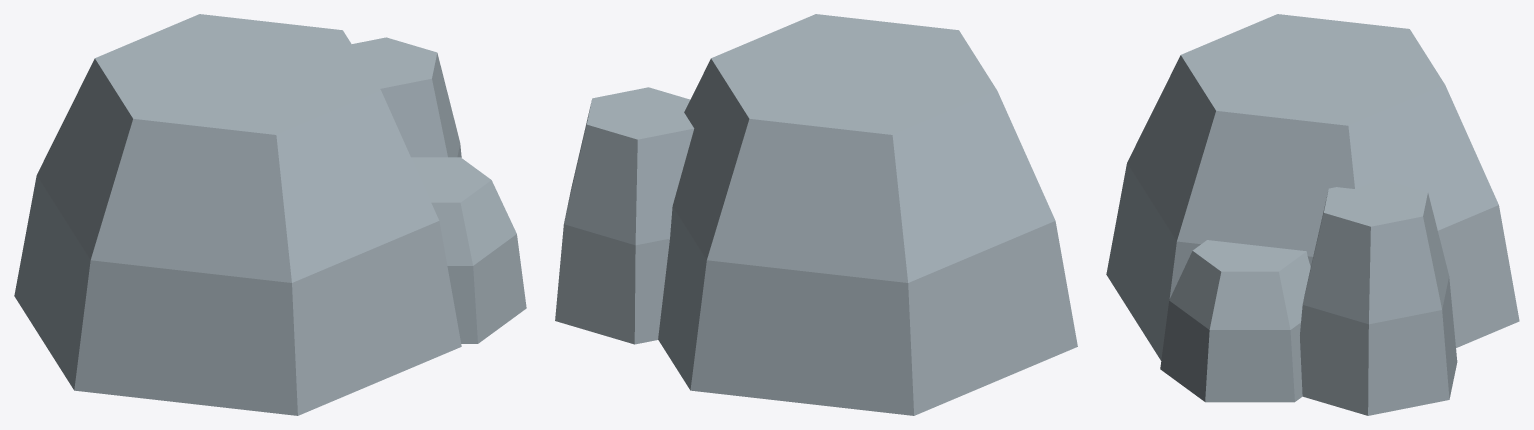
The model's file is Rock_02.fbx.
3 renders of one model, left to right at view 1: azimuth 30°, elevation 25°; view 2: azimuth 150°, elevation 25°; view 3: azimuth 270°, elevation 25°, orthographic. The views are drawn at different scales.
Visible parts, largest first — view 1: Cylinder.002; view 2: Cylinder.002; view 3: Cylinder.002.
Part boxes in pixels (x1,y1,x2,y2): Cylinder.002: (14,14,526,415); Cylinder.002: (555,14,1077,415); Cylinder.002: (1106,14,1519,415).
Size of the model in its own units: 2.31 by 1.2 by 1.97.
